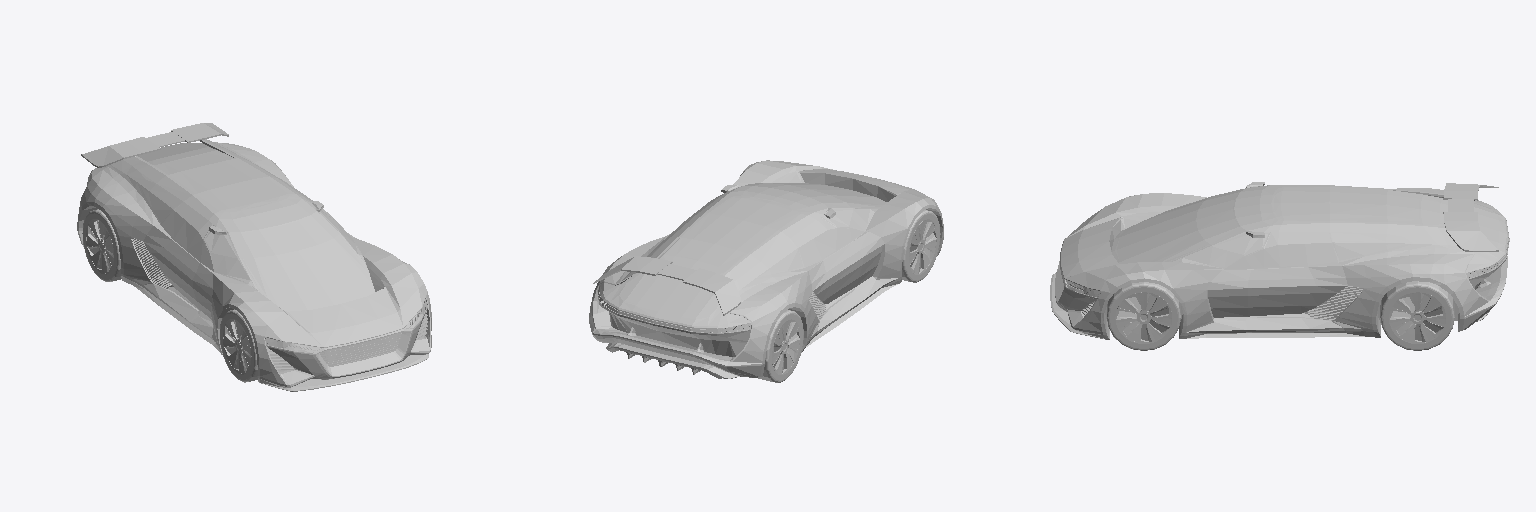
The model's file is car 5.obj.
3 views of the same model, side by side, from view 1: azimuth 30°, elevation 25°; view 2: azimuth 150°, elevation 25°; view 3: azimuth 270°, elevation 25° (orthographic).
Parts seen in each view (by area): view 1: Body, Wheel_BR, Wheel_FR; view 2: Body, Wheel_BR, Wheel_FR; view 3: Body, Wheel_BL, Wheel_FL.
Boxes of the visible parts, x1,y1,x2,y2 form: Body: [77, 123, 431, 391]; Wheel_BR: [82, 209, 121, 281]; Wheel_FR: [220, 309, 257, 382]; Body: [589, 160, 943, 378]; Wheel_BR: [758, 310, 803, 382]; Wheel_FR: [902, 210, 940, 282]; Body: [1050, 182, 1509, 339]; Wheel_BL: [1380, 281, 1454, 350]; Wheel_FL: [1107, 282, 1180, 350].
Size of the model in its own units: 62.62 by 36.52 by 142.